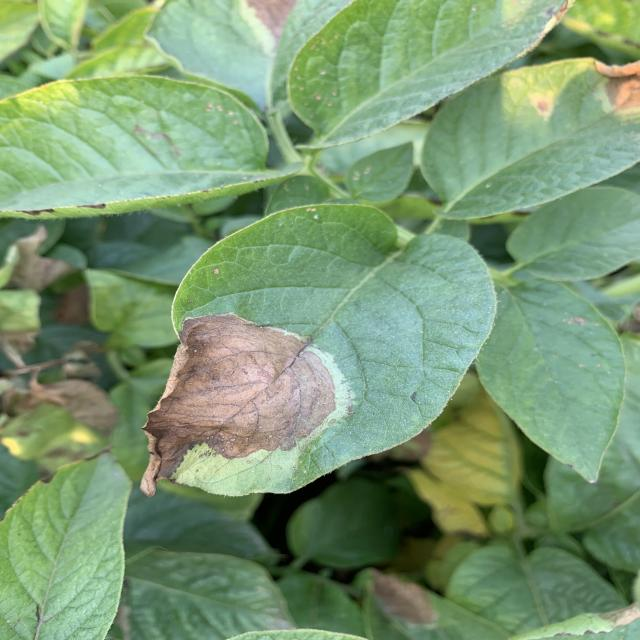lateblight: (142, 314, 337, 491), (370, 569, 437, 624), (595, 61, 640, 111), (247, 0, 297, 41)
